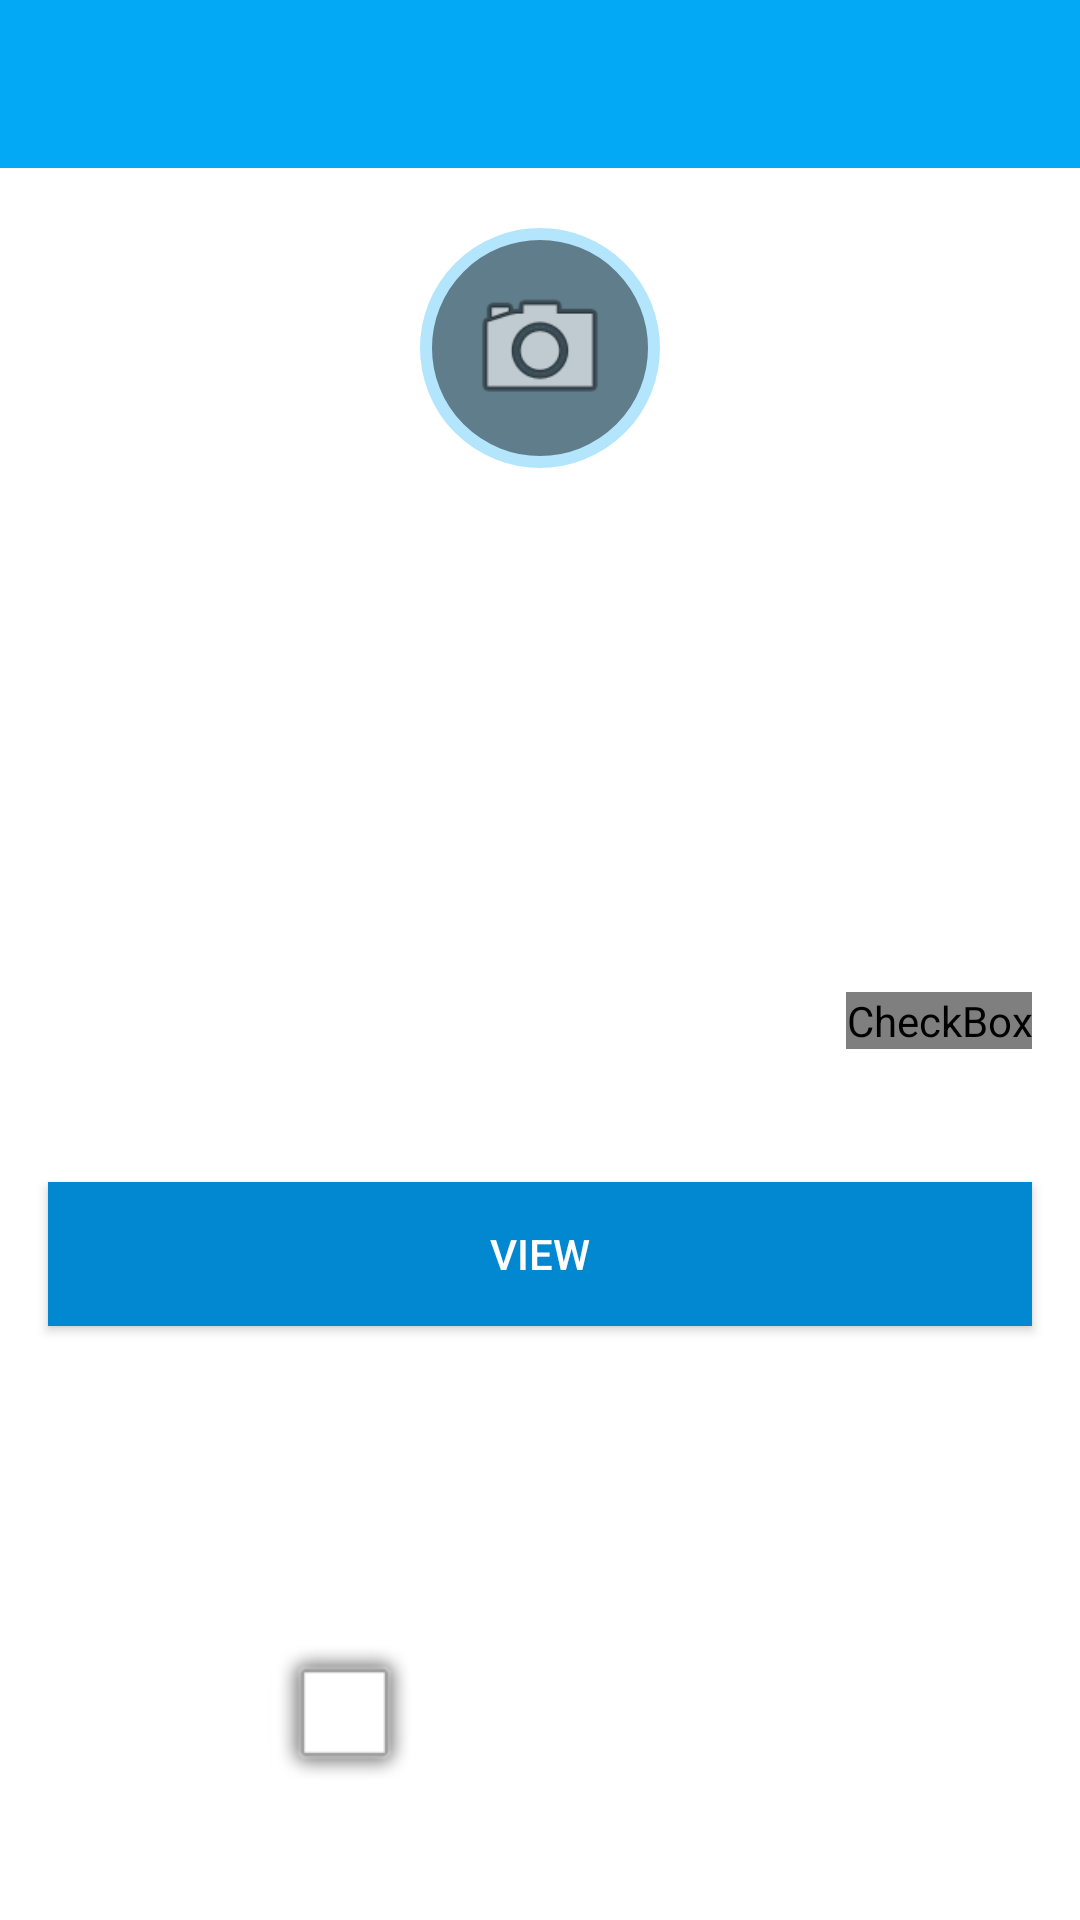

Named icons in this screenshot (1080×1920) and their centers, (x=x, y=y):
camera: (x=540, y=348)
